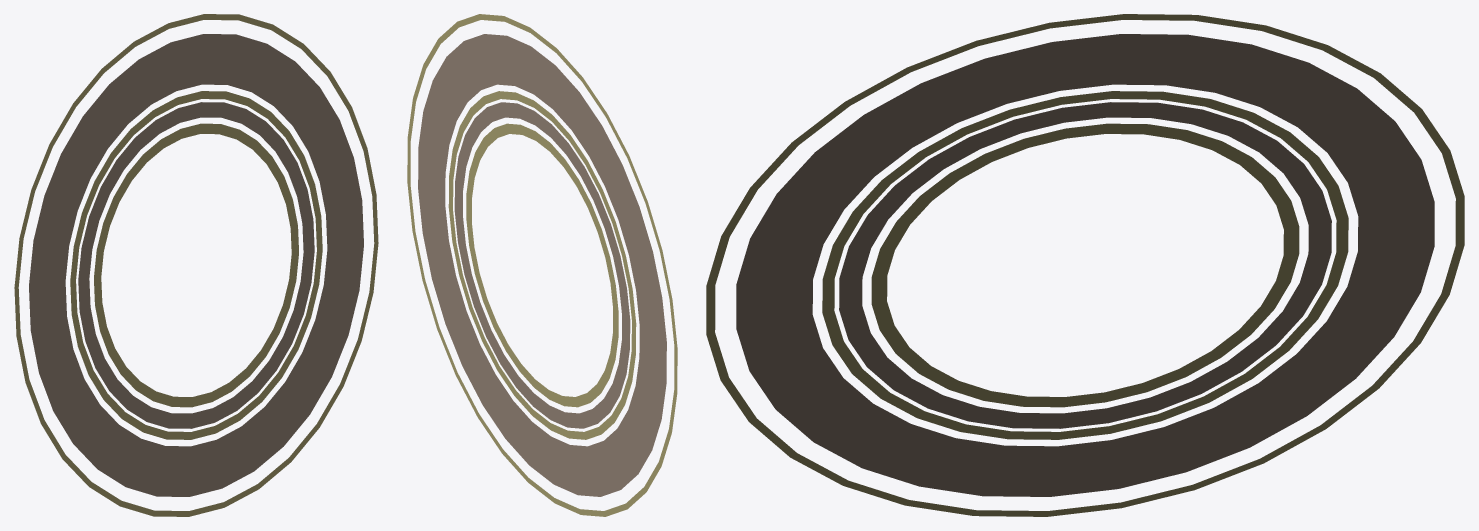
The model's file is saturn-ring.glb.
3 renders of one model, left to right at view 1: azimuth 30°, elevation 25°; view 2: azimuth 150°, elevation 25°; view 3: azimuth 270°, elevation 25°, orthographic. The views are drawn at different scales.
Parts seen in each view (by area): view 1: SaturnsRings_Circle; view 2: SaturnsRings_Circle; view 3: SaturnsRings_Circle.
Part boxes in pixels (box(x1,y1,x2,y2)): SaturnsRings_Circle: box(14, 14, 378, 516); SaturnsRings_Circle: box(407, 14, 677, 516); SaturnsRings_Circle: box(706, 14, 1464, 516).
Bounding box in the file's own units: 3.08 × 6.3 × 6.82.
